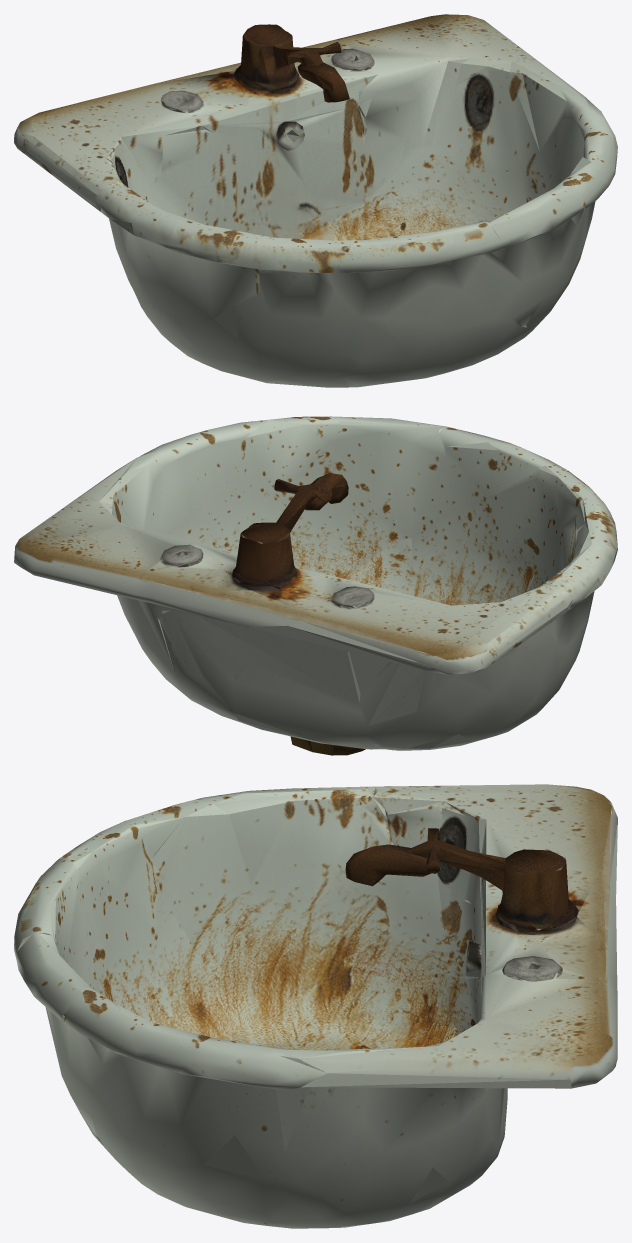
File: Lavabo.fbx
The picture shows the model from 3 angles, top to bottom: view 1: azimuth 30°, elevation 25°; view 2: azimuth 150°, elevation 25°; view 3: azimuth 270°, elevation 25°; orthographic projection. The views are drawn at different scales.
Parts seen in each view (by area): view 1: Mesh_0; view 2: Mesh_0; view 3: Mesh_0.
Part boxes in pixels (box(x1,y1,x2,y2)): Mesh_0: box(14, 14, 617, 387); Mesh_0: box(14, 416, 617, 755); Mesh_0: box(14, 784, 617, 1228).
Size of the model in its own units: 190 by 103 by 169.
Materials: 1 (1 with a texture image).
